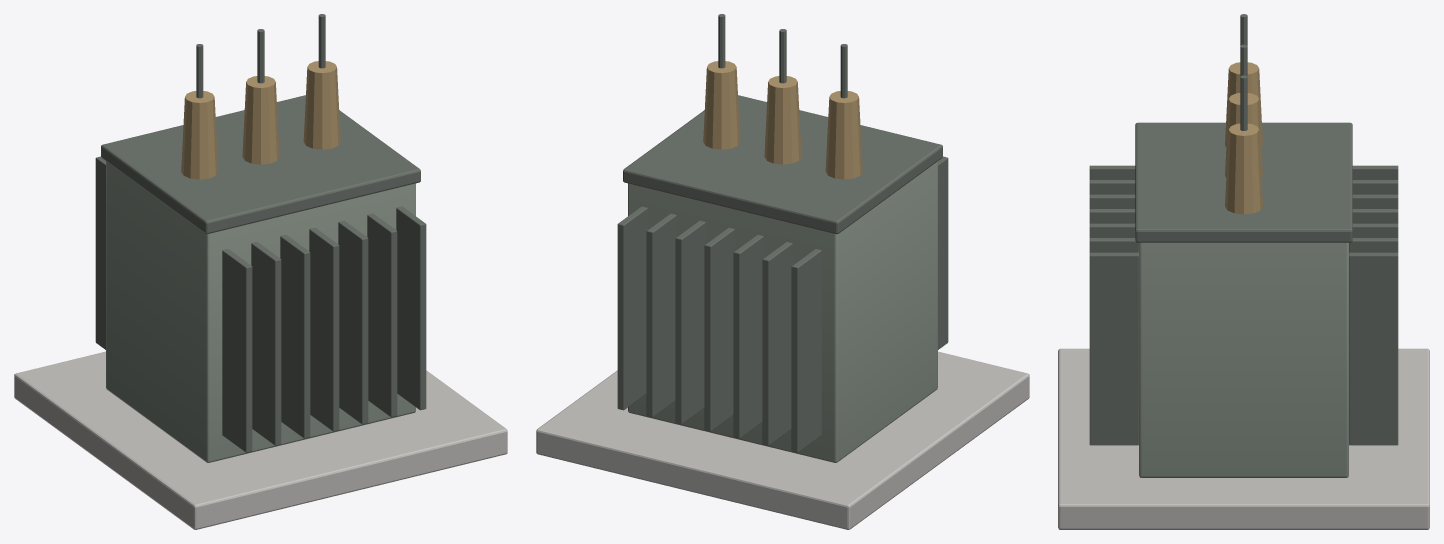
Rendered from transformer.glb.
3 views of the same model, side by side, from view 1: azimuth 30°, elevation 25°; view 2: azimuth 150°, elevation 25°; view 3: azimuth 270°, elevation 25° (orthographic). The views are drawn at different scales.
Parts seen in each view (by area): view 1: trans_fin_b, trans_body, trans_base, trans_topcap, trans_insulator_0, trans_insulator_2, trans_insulator_1, trans_fin; view 2: trans_fin, trans_body, trans_base, trans_topcap, trans_insulator_0, trans_insulator_2, trans_insulator_1, trans_fin_b; view 3: trans_body, trans_base, trans_topcap, trans_fin, trans_fin_b, trans_insulator_2, trans_insulator_0, trans_insulator_1, trans_insulator_rod_2.
Part boxes in pixels (x1,y1,x2,y2): trans_fin_b: [222, 206, 426, 452]; trans_body: [106, 161, 415, 462]; trans_base: [14, 351, 507, 529]; trans_topcap: [101, 95, 420, 234]; trans_insulator_0: [181, 91, 218, 179]; trans_insulator_2: [303, 61, 340, 149]; trans_insulator_1: [242, 76, 279, 164]; trans_fin: [95, 156, 105, 349]; trans_fin: [617, 206, 821, 452]; trans_body: [628, 161, 937, 462]; trans_base: [536, 351, 1029, 529]; trans_topcap: [623, 95, 942, 234]; trans_insulator_0: [825, 91, 862, 179]; trans_insulator_2: [703, 61, 740, 149]; trans_insulator_1: [764, 76, 801, 164]; trans_fin_b: [938, 156, 948, 349]; trans_body: [1139, 242, 1348, 477]; trans_base: [1058, 348, 1429, 529]; trans_topcap: [1135, 122, 1352, 242]; trans_fin: [1349, 165, 1398, 445]; trans_fin_b: [1089, 165, 1138, 445]; trans_insulator_2: [1225, 123, 1262, 214]; trans_insulator_0: [1225, 62, 1262, 146]; trans_insulator_1: [1225, 93, 1262, 177]; trans_insulator_rod_2: [1240, 75, 1247, 130].
Size of the model in its own units: 1.95 by 2.35 by 1.95.
